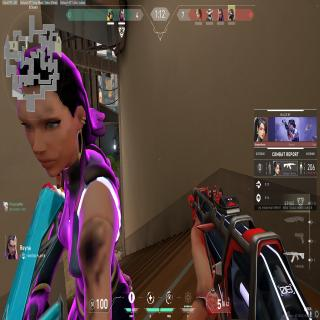ENEMY-HEAD: (13, 42, 98, 179)
